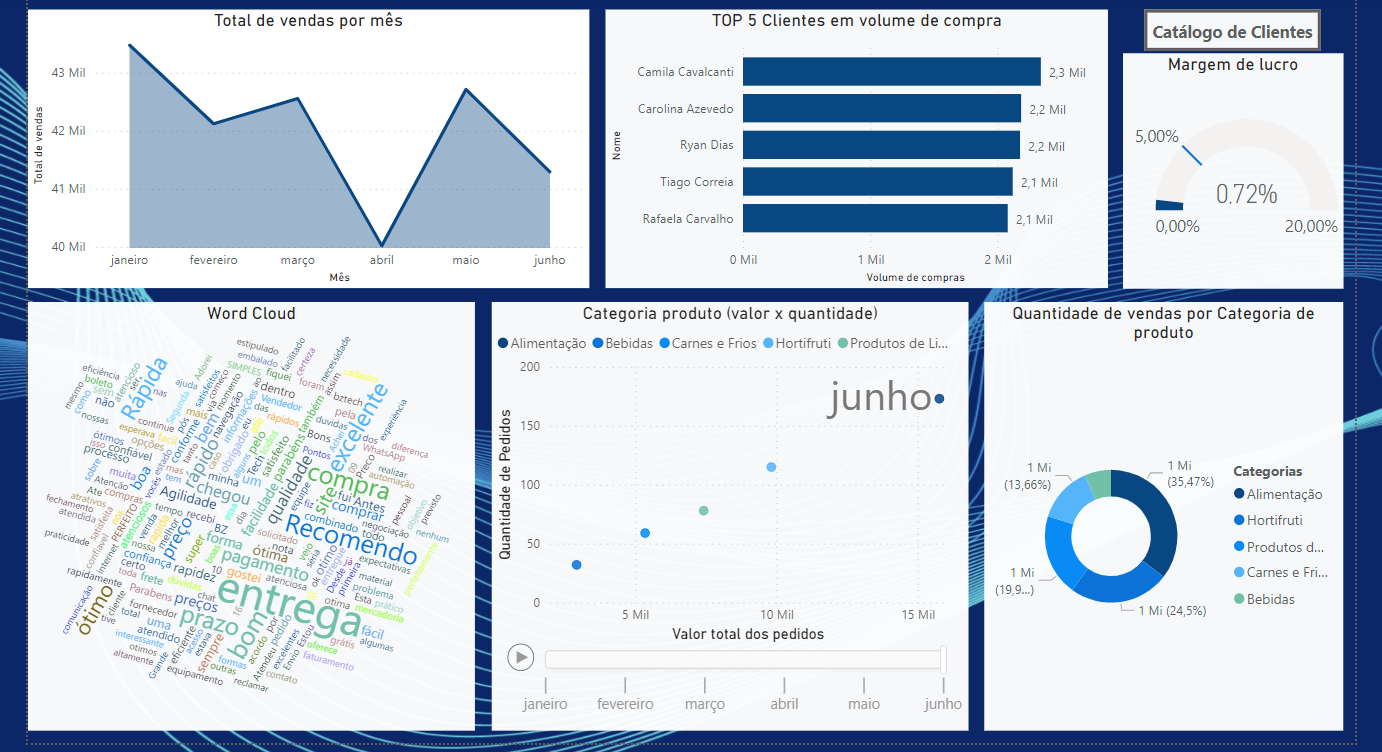

The dashboard page shown, as its layout file describes it:
{"tool":"powerbi","page":{"name":"Página 1","canvas":[1280,720],"ordinal":0},"visuals":[{"type":"areaChart","title":"Total de vendas por mês","fields":{"Category":["Datas.DATA.Variation.Hierarquia de datas.Mês"],"Y":["Sum(Vendas.VALOR_TOTAL_VENDA)"]},"box":[0,12.5,541.2,268.8],"z":0},{"type":"donutChart","title":"Quantidade de vendas por Categoria de produto","fields":{"Y":["Sum(Vendas.ID_PEDIDO)"],"Category":["Produto.CATEGORIA_PRODUTO"]},"box":[922.5,293.8,346.2,413.8],"z":1000},{"type":"clusteredBarChart","title":"TOP 5 Clientes em volume de compra","fields":{"Category":["Cliente. Nome"],"Y":["Sum(Vendas.VALOR_TOTAL_VENDA)"]},"box":[557.5,12.5,485,268.8],"z":2000},{"type":"WordCloud1447959067750","title":"Word Cloud","fields":{"Category":["Comentarios.Column1"]},"box":[0,293.8,431.2,413.8],"z":3000},{"type":"actionButton","box":[1077.5,12.5,170,40],"z":4000},{"type":"gauge","title":"Margem de lucro","fields":{"Y":["Vendas.Margem_Lucro1"]},"box":[1056.2,53.8,212.5,227.5],"z":5000},{"type":"scatterChart","title":"Categoria produto (valor x quantidade)","fields":{"X":["Sum(Vendas.VALOR_TOTAL_VENDA)"],"Y":["CountNonNull(Vendas.ID_PEDIDO)"],"Play":["Datas.DATA.Variation.Hierarquia de datas.Mês"],"Series":["Produto.CATEGORIA_PRODUTO"]},"box":[447.5,293.8,460,413.8],"z":6000}]}

Visuals, with their boxes in screenshot pixels (x1, y1, x2, y2):
"Total de vendas por mês" areaChart: 32, 9, 590, 286
"Quantidade de vendas por Categoria de produto" donutChart: 983, 299, 1339, 725
"TOP 5 Clientes em volume de compra" clusteredBarChart: 607, 9, 1106, 286
"Word Cloud" WordCloud1447959067750: 32, 299, 477, 725
actionButton: 1142, 9, 1318, 50
"Margem de lucro" gauge: 1121, 52, 1339, 286
"Categoria produto (valor x quantidade)" scatterChart: 493, 299, 967, 725
